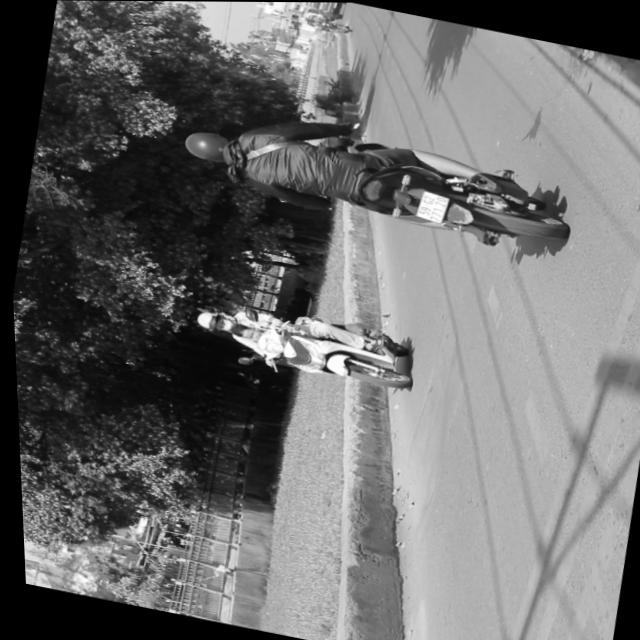helmet: (177, 127, 238, 169), (188, 309, 230, 336)
licenseplate: (165, 95, 574, 266), (182, 291, 416, 397)
motorcyclist: (223, 322, 262, 344)
nohelmet: (410, 189, 448, 225)
